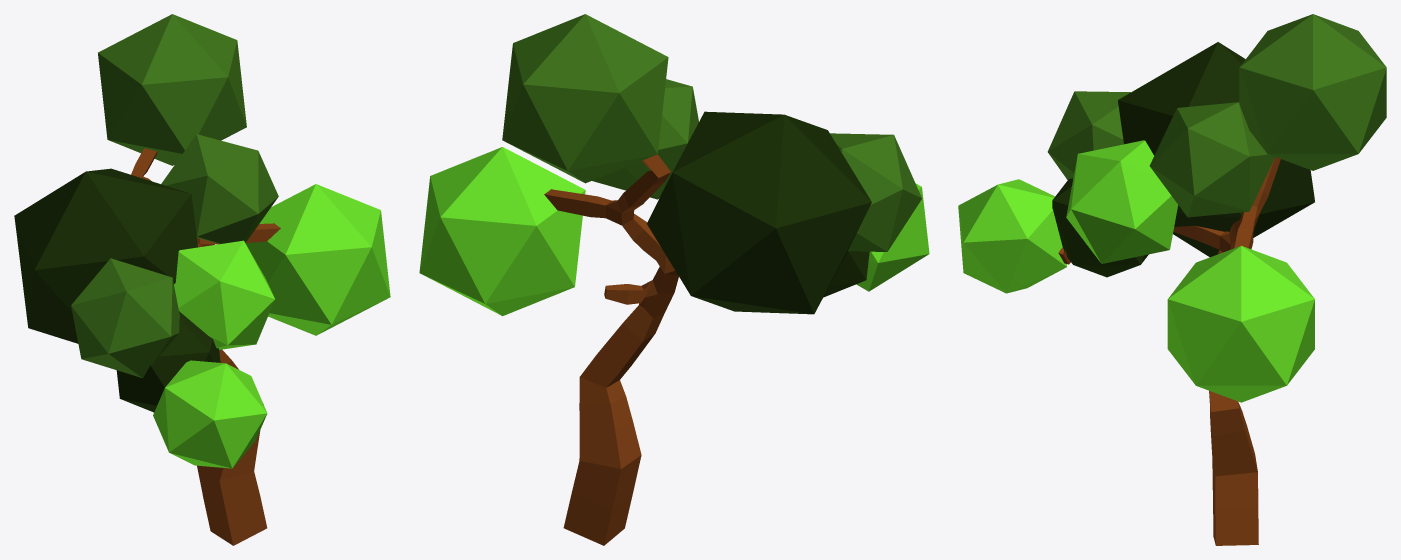
File: tree_1.fbx
3 views of the same model, side by side, from view 1: azimuth 30°, elevation 25°; view 2: azimuth 150°, elevation 25°; view 3: azimuth 270°, elevation 25° (orthographic). The views are drawn at different scales.
Parts seen in each view (by area): view 1: Icosphere.007, Icosphere.003, Icosphere.004, Icosphere.001, Icosphere, Icosphere.006, Icosphere.005, Cube, Icosphere.002; view 2: Icosphere.007, Icosphere.003, Icosphere.004, Cube, Icosphere.001, Icosphere.006, Icosphere, Icosphere.002; view 3: Icosphere.004, Icosphere.003, Icosphere.007, Icosphere.006, Icosphere.005, Icosphere, Cube, Icosphere.001, Icosphere.002.
Part boxes in pixels (box(x1,y1,x2,y2)): Icosphere.007: box(14, 168, 197, 343); Icosphere.003: box(98, 14, 246, 165); Icosphere.004: box(245, 184, 390, 335); Icosphere.001: box(71, 258, 179, 378); Icosphere: box(153, 360, 267, 468); Icosphere.006: box(161, 134, 278, 243); Icosphere.005: box(174, 240, 274, 349); Cube: box(131, 148, 280, 545); Icosphere.002: box(116, 311, 220, 412); Icosphere.007: box(647, 111, 871, 314); Icosphere.003: box(502, 14, 668, 183); Icosphere.004: box(419, 147, 585, 316); Cube: box(544, 154, 678, 545); Icosphere.001: box(830, 133, 921, 251); Icosphere.006: box(592, 79, 698, 199); Icosphere: box(856, 183, 929, 291); Icosphere.002: box(823, 251, 869, 297); Icosphere.004: box(1167, 245, 1314, 402); Icosphere.003: box(1239, 14, 1386, 170); Icosphere.007: box(1118, 42, 1314, 257); Icosphere.006: box(1149, 102, 1275, 217); Icosphere.005: box(1066, 140, 1177, 263); Icosphere: box(958, 179, 1066, 293); Cube: box(1058, 157, 1280, 545); Icosphere.001: box(1047, 91, 1130, 179); Icosphere.002: box(1052, 178, 1148, 277).
Bounding box in the file's own units: 257 × 331 × 249.
